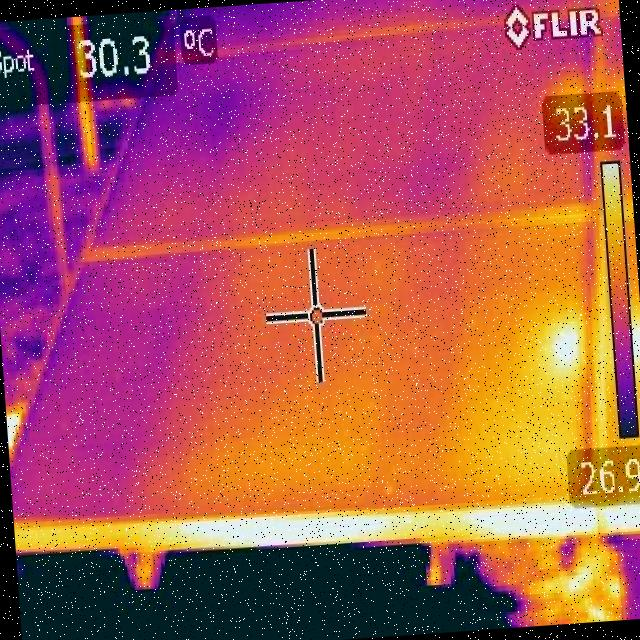Hotspot: (544, 318, 584, 379), (633, 319, 640, 367)
